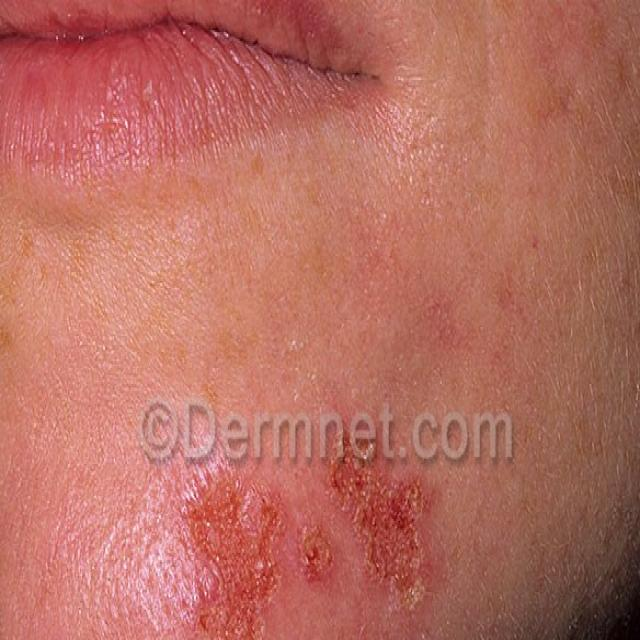Viral Infections: (322, 392, 456, 618), (166, 441, 278, 640), (298, 520, 333, 597)
